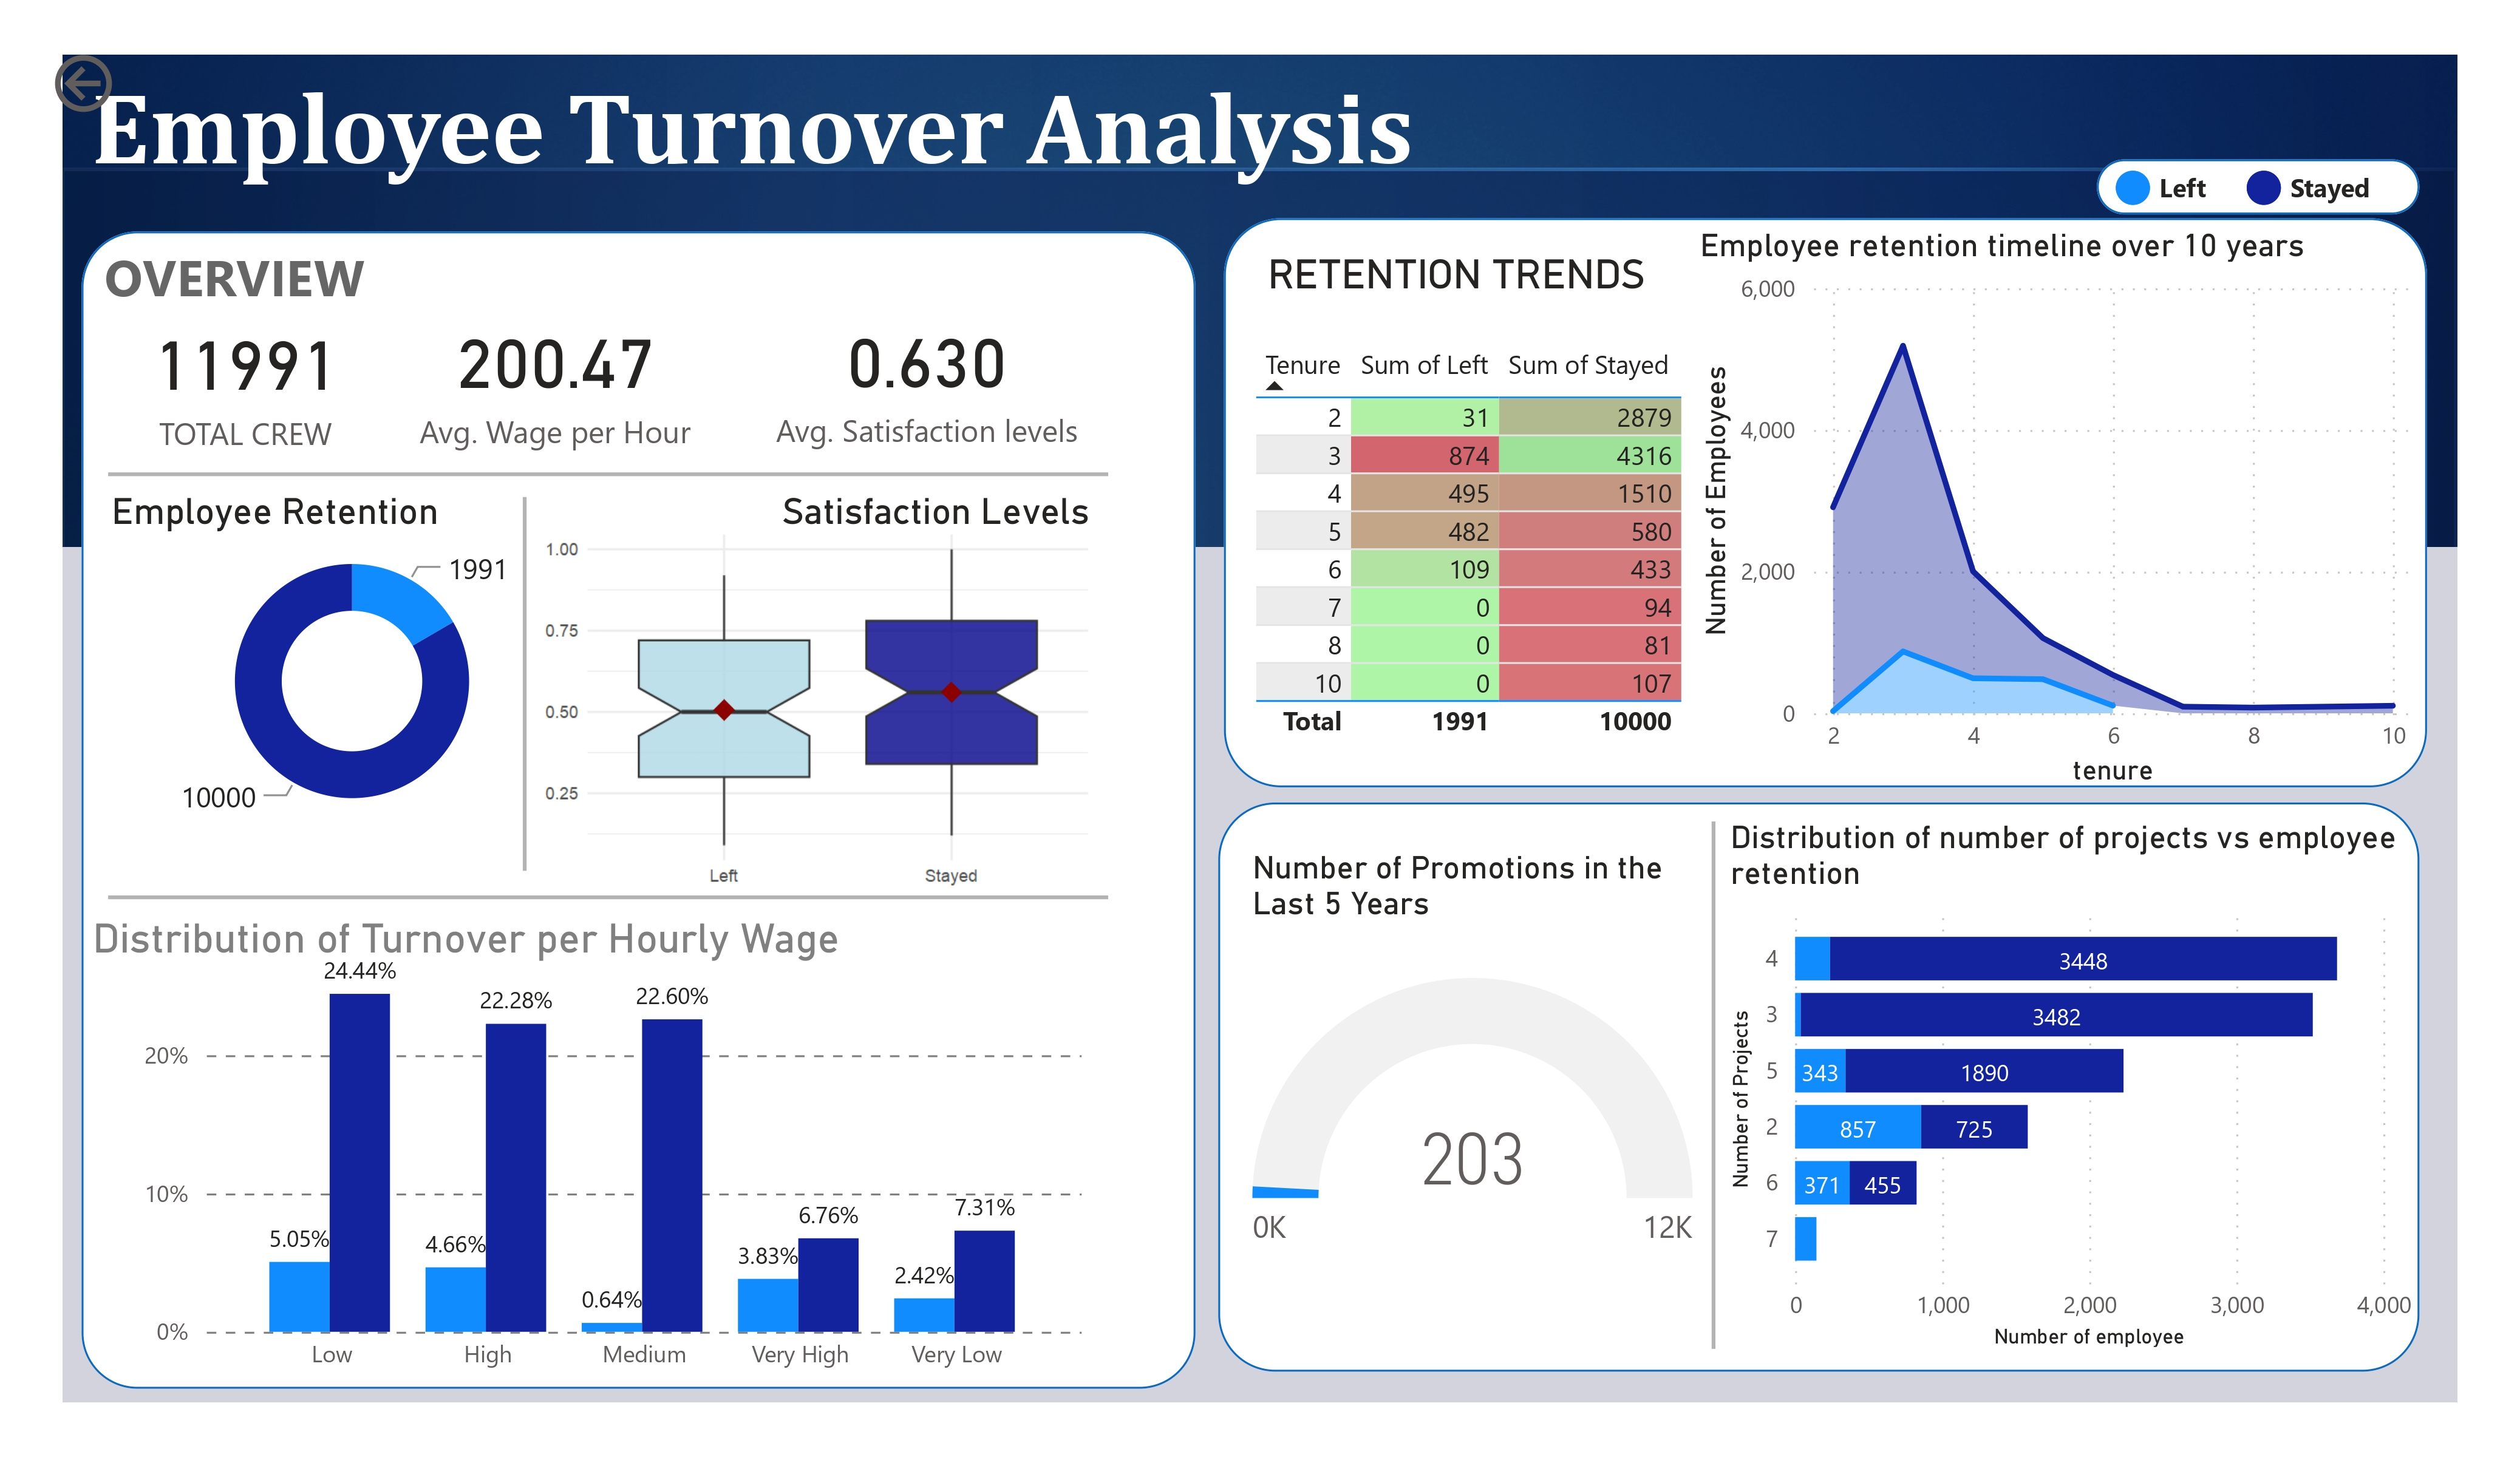

Layout of this report page (visuals, bound fields, positions):
{"tool":"powerbi","page":{"name":"Page 1","canvas":[1280,720],"ordinal":0},"visuals":[{"type":"image","box":[0,0,1280,720],"z":0},{"type":"textbox","box":[18.6,5.7,865.7,102.9],"z":1000},{"type":"shape","box":[621.2,91.2,633.8,300],"z":2000},{"type":"gauge","title":"        Distribution of Employee turnover per Monthly Hours","fields":{"Y":["Divide(CountNonNull(Hr_cleaned.Status), ScopedEval(CountNonNull(Hr_cleaned.Status), []))"]},"box":[251.4,220,251.4,235.7],"z":3000},{"type":"shape","box":[50,411.4,490.5,274.3],"z":4000},{"type":"actionButton","box":[0,0,100,40],"z":5000},{"type":"tableEx","fields":{"Values":["Hr_cleaned (2).tenure","Hr_cleaned (2).Left","Hr_cleaned (2).Stayed"]},"box":[631.7,153.3,241.7,221.7],"z":6000},{"type":"slicer","fields":{"Values":["Hr_cleaned.Status"]},"box":[377.5,97.5,202.5,46.2],"z":7000},{"type":"shape","box":[18.8,97.5,587.5,610],"z":8000},{"type":"clusteredColumnChart","fields":{"Category":["Hr_cleaned.Monthly Average Hours"],"Y":["Sum(Hr_cleaned.tenure)"],"Series":["Hr_cleaned.turnover"]},"box":[46.6,463.8,504.3,244.3],"z":9000},{"type":"card","fields":{"Values":["CountNonNull(Hr_cleaned.tenure)"]},"box":[46.4,131,118.6,90],"z":10000},{"type":"card","fields":{"Values":["Avg(Hr_cleaned.average_monthly_hours)"]},"box":[186.9,128.2,162.9,94.3],"z":11000},{"type":"textbox","box":[26.2,97.5,197.5,55],"z":12000},{"type":"card","fields":{"Values":["Avg(Hr_cleaned.satisfaction_level)"]},"box":[373.5,131,181.4,87.1],"z":13000},{"type":"textbox","box":[20,453.3,470,55],"z":14000},{"type":"scriptVisual","fields":{"Values":["Hr_cleaned.Status","Hr_cleaned.satisfaction_level"]},"box":[252.1,246.7,308.8,206.2],"z":15000},{"type":"donutChart","fields":{"Series":["Hr_cleaned.turnover"],"Y":["CountNonNull(Hr_cleaned.turnover)"]},"box":[29.6,246.7,263.8,176.2],"z":16000},{"type":"textbox","box":[29.6,229.2,190,56.2],"z":17000},{"type":"textbox","box":[365.8,229.2,188.8,56.2],"z":18000},{"type":"shape","box":[234.6,237.9,35,197.5],"z":19000},{"type":"stackedAreaChart","title":"Employee retention timeline over 10 years","fields":{"Category":["Hr_cleaned.tenure"],"Series":["Hr_cleaned.Status"],"Y":["CountNonNull(Hr_cleaned.Status)"]},"box":[866.7,95,385,300],"z":20000},{"type":"textbox","box":[638.8,102.5,227.5,41.2],"z":21000},{"type":"shape","box":[1081.4,60,170,28.6],"z":21500},{"type":"shape","box":[617.5,398.8,633.8,300],"z":22000},{"type":"shape","box":[1091.4,66.4,17.1,17.1],"z":23000},{"type":"shape","box":[1160,66.4,17.9,17.1],"z":24000},{"type":"textbox","box":[1177.9,60.7,62.9,28.6],"z":25000},{"type":"textbox","box":[1108.6,61.4,51.4,28.6],"z":26000},{"type":"shape","box":[33.3,433.3,526.7,31.7],"z":27000},{"type":"shape","box":[33.3,210,526.7,31.7],"z":28000},{"type":"barChart","title":"Distribution of number of projects vs employee retention","fields":{"Category":["Hr_cleaned.number_project"],"Y":["CountNonNull(Hr_cleaned.Status)"],"Series":["Hr_cleaned.Status"]},"box":[883,407,369,284],"z":29000},{"type":"gauge","title":"Number of Promotions in the Last 5 Years","fields":{"Y":["Sum(Hr_cleaned.promotion_last_5years)"],"MaxValue":["CountNonNull(Hr_cleaned.promotion_last_5years)"]},"box":[631.4,422.9,241.4,245.7],"z":30000},{"type":"shape","box":[867.1,408.6,24.3,278.6],"z":31000}]}

Visuals, with their boxes in screenshot pixels (x1, y1, x2, y2):
image: left=52, top=46, right=2450, bottom=1394
textbox: left=87, top=56, right=1709, bottom=250
shape: left=1216, top=217, right=2403, bottom=778
"        Distribution of Employee turnover per Monthly Hours" gauge: left=523, top=458, right=994, bottom=899
shape: left=146, top=816, right=1064, bottom=1330
actionButton: left=52, top=46, right=240, bottom=121
tableEx - Hr_cleaned (2).tenure x Hr_cleaned (2).Left: left=1236, top=333, right=1688, bottom=748
slicer - Hr_cleaned.Status: left=760, top=228, right=1139, bottom=315
shape: left=87, top=228, right=1188, bottom=1371
clusteredColumnChart - Hr_cleaned.Monthly Average Hours x Sum(Hr_cleaned.tenure): left=140, top=914, right=1084, bottom=1371
card - CountNonNull(Hr_cleaned.tenure): left=140, top=291, right=361, bottom=460
card - Avg(Hr_cleaned.average_monthly_hours): left=403, top=286, right=707, bottom=463
textbox: left=101, top=228, right=471, bottom=331
card - Avg(Hr_cleaned.satisfaction_level): left=752, top=291, right=1092, bottom=454
textbox: left=90, top=895, right=970, bottom=997
scriptVisual - Hr_cleaned.Status x Hr_cleaned.satisfaction_level: left=525, top=508, right=1103, bottom=894
donutChart - Hr_cleaned.turnover x CountNonNull(Hr_cleaned.turnover): left=108, top=508, right=602, bottom=838
textbox: left=108, top=475, right=464, bottom=580
textbox: left=738, top=475, right=1091, bottom=580
shape: left=492, top=491, right=557, bottom=861
"Employee retention timeline over 10 years" stackedAreaChart: left=1675, top=224, right=2397, bottom=786
textbox: left=1249, top=238, right=1675, bottom=315
shape: left=2078, top=158, right=2396, bottom=212
shape: left=1209, top=793, right=2396, bottom=1354
shape: left=2096, top=170, right=2128, bottom=202
shape: left=2225, top=170, right=2258, bottom=202
textbox: left=2258, top=160, right=2376, bottom=213
textbox: left=2128, top=161, right=2225, bottom=214
shape: left=115, top=857, right=1102, bottom=917
shape: left=115, top=439, right=1102, bottom=498
"Distribution of number of projects vs employee retention" barChart: left=1706, top=808, right=2397, bottom=1340
"Number of Promotions in the Last 5 Years" gauge: left=1235, top=838, right=1687, bottom=1298
shape: left=1677, top=811, right=1722, bottom=1333
